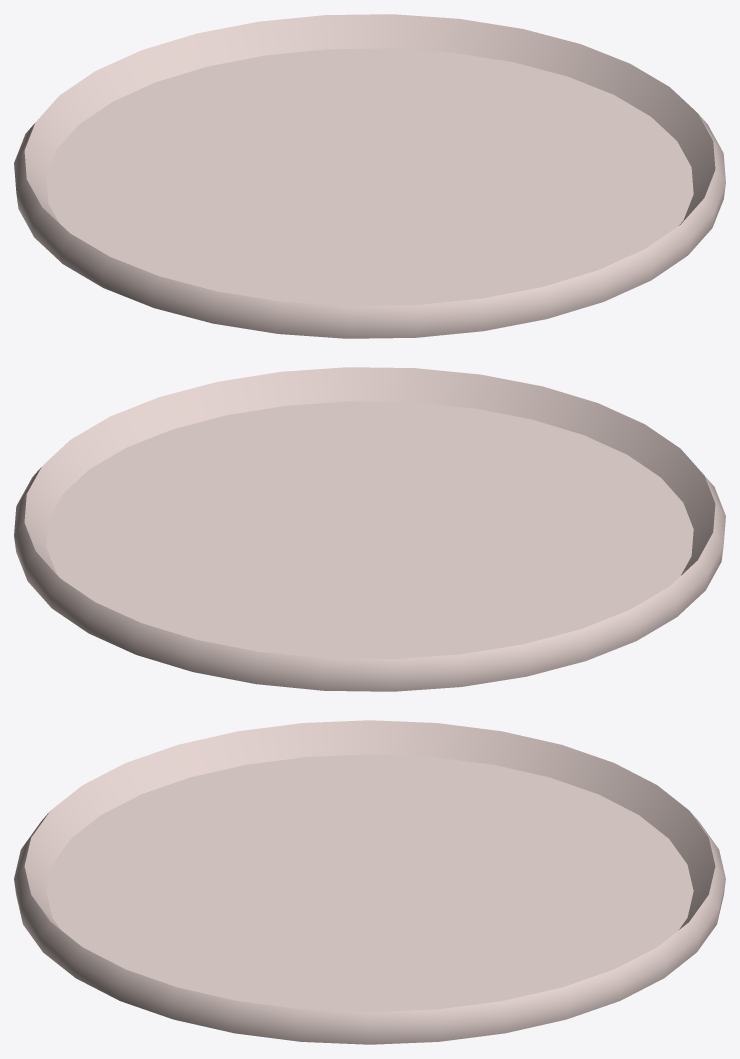
File: PlateModel.fbx
3 renders of one model, top to bottom at view 1: azimuth 30°, elevation 25°; view 2: azimuth 150°, elevation 25°; view 3: azimuth 270°, elevation 25°, orthographic.
Visible parts, largest first — view 1: Cube.002; view 2: Cube.002; view 3: Cube.002.
Part boxes in pixels (left/top/right/bottom): Cube.002: left=14, top=14, right=725, bottom=338; Cube.002: left=14, top=367, right=725, bottom=691; Cube.002: left=14, top=720, right=725, bottom=1044.
Bounding box in the file's own units: 239 × 19.86 × 239.
